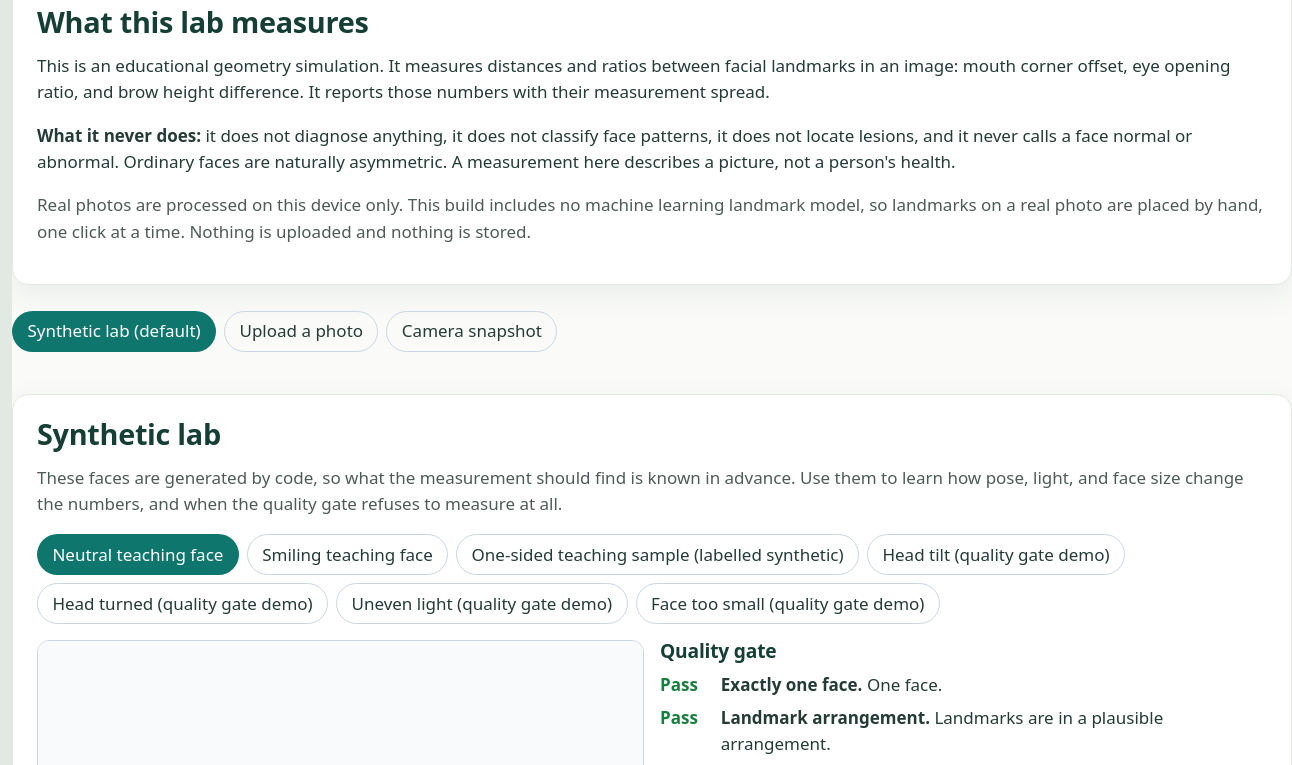
Test: FaceAnalyzerLab › refuses the uneven light sample
The image size is (1292, 765).
Click the button "Uneven light (quality gate demo)": point(482, 604) top-left (336, 583), bottom-right (628, 624)
(page scrolled)
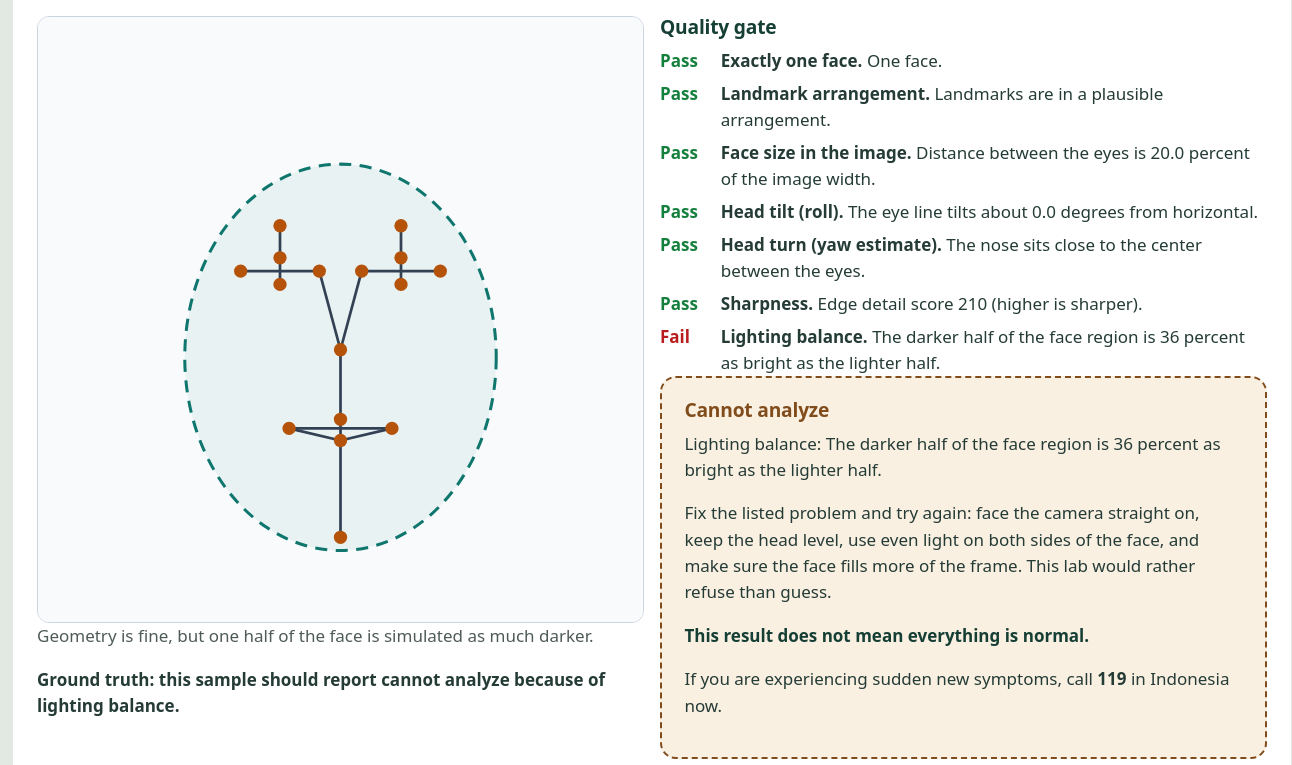
Result: the heading "Cannot analyze" is shown at top-left (684, 396), bottom-right (829, 423)
